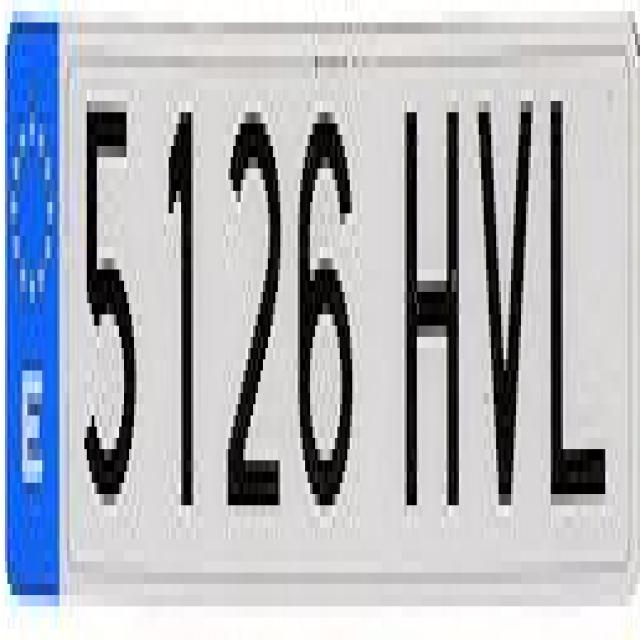EU: (5, 13, 634, 597)
Espagne: (1, 5, 62, 610)
